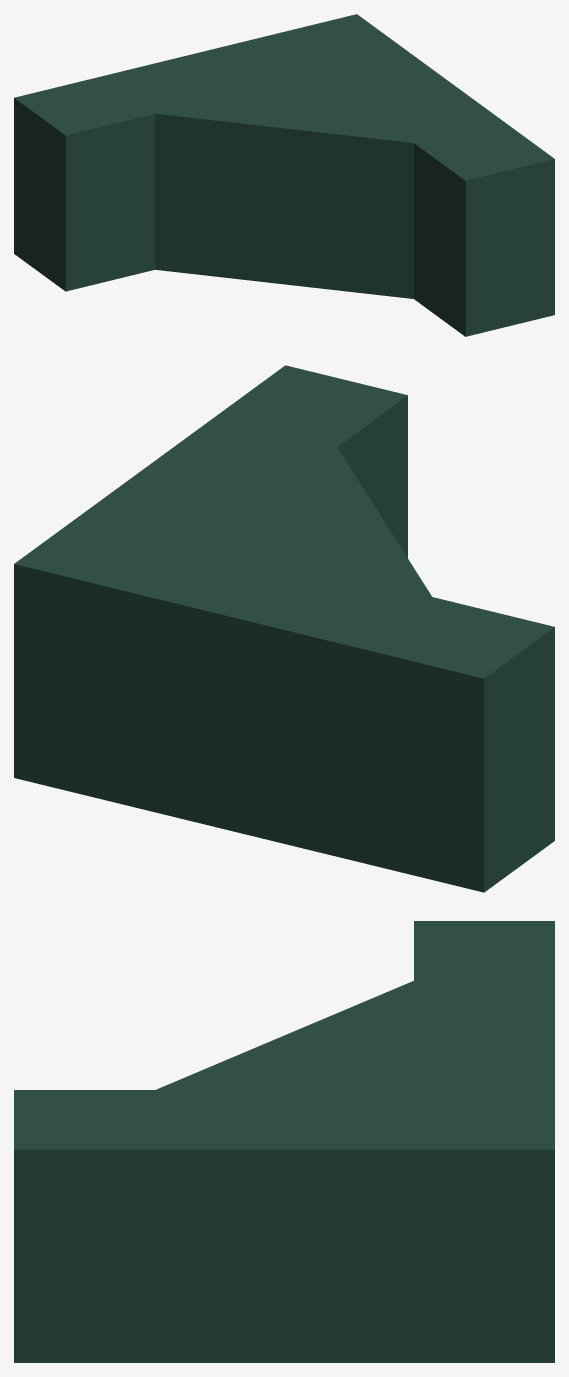
File: W2_WallCorner_Angular1B_Top.fbx
3 views of the same model, one above another, from view 1: azimuth 30°, elevation 25°; view 2: azimuth 150°, elevation 25°; view 3: azimuth 270°, elevation 25° (orthographic). The views are drawn at different scales.
Parts seen in each view (by area): view 1: W2_WallCorner_Angular1B_Top.001; view 2: W2_WallCorner_Angular1B_Top.001; view 3: W2_WallCorner_Angular1B_Top.001.
Boxes of the visible parts, bbox=[...] form: W2_WallCorner_Angular1B_Top.001: bbox=[14, 14, 554, 336]; W2_WallCorner_Angular1B_Top.001: bbox=[14, 365, 554, 892]; W2_WallCorner_Angular1B_Top.001: bbox=[14, 921, 554, 1362].
Bounding box in the file's own units: 1.15 × 0.5 × 1.15.
